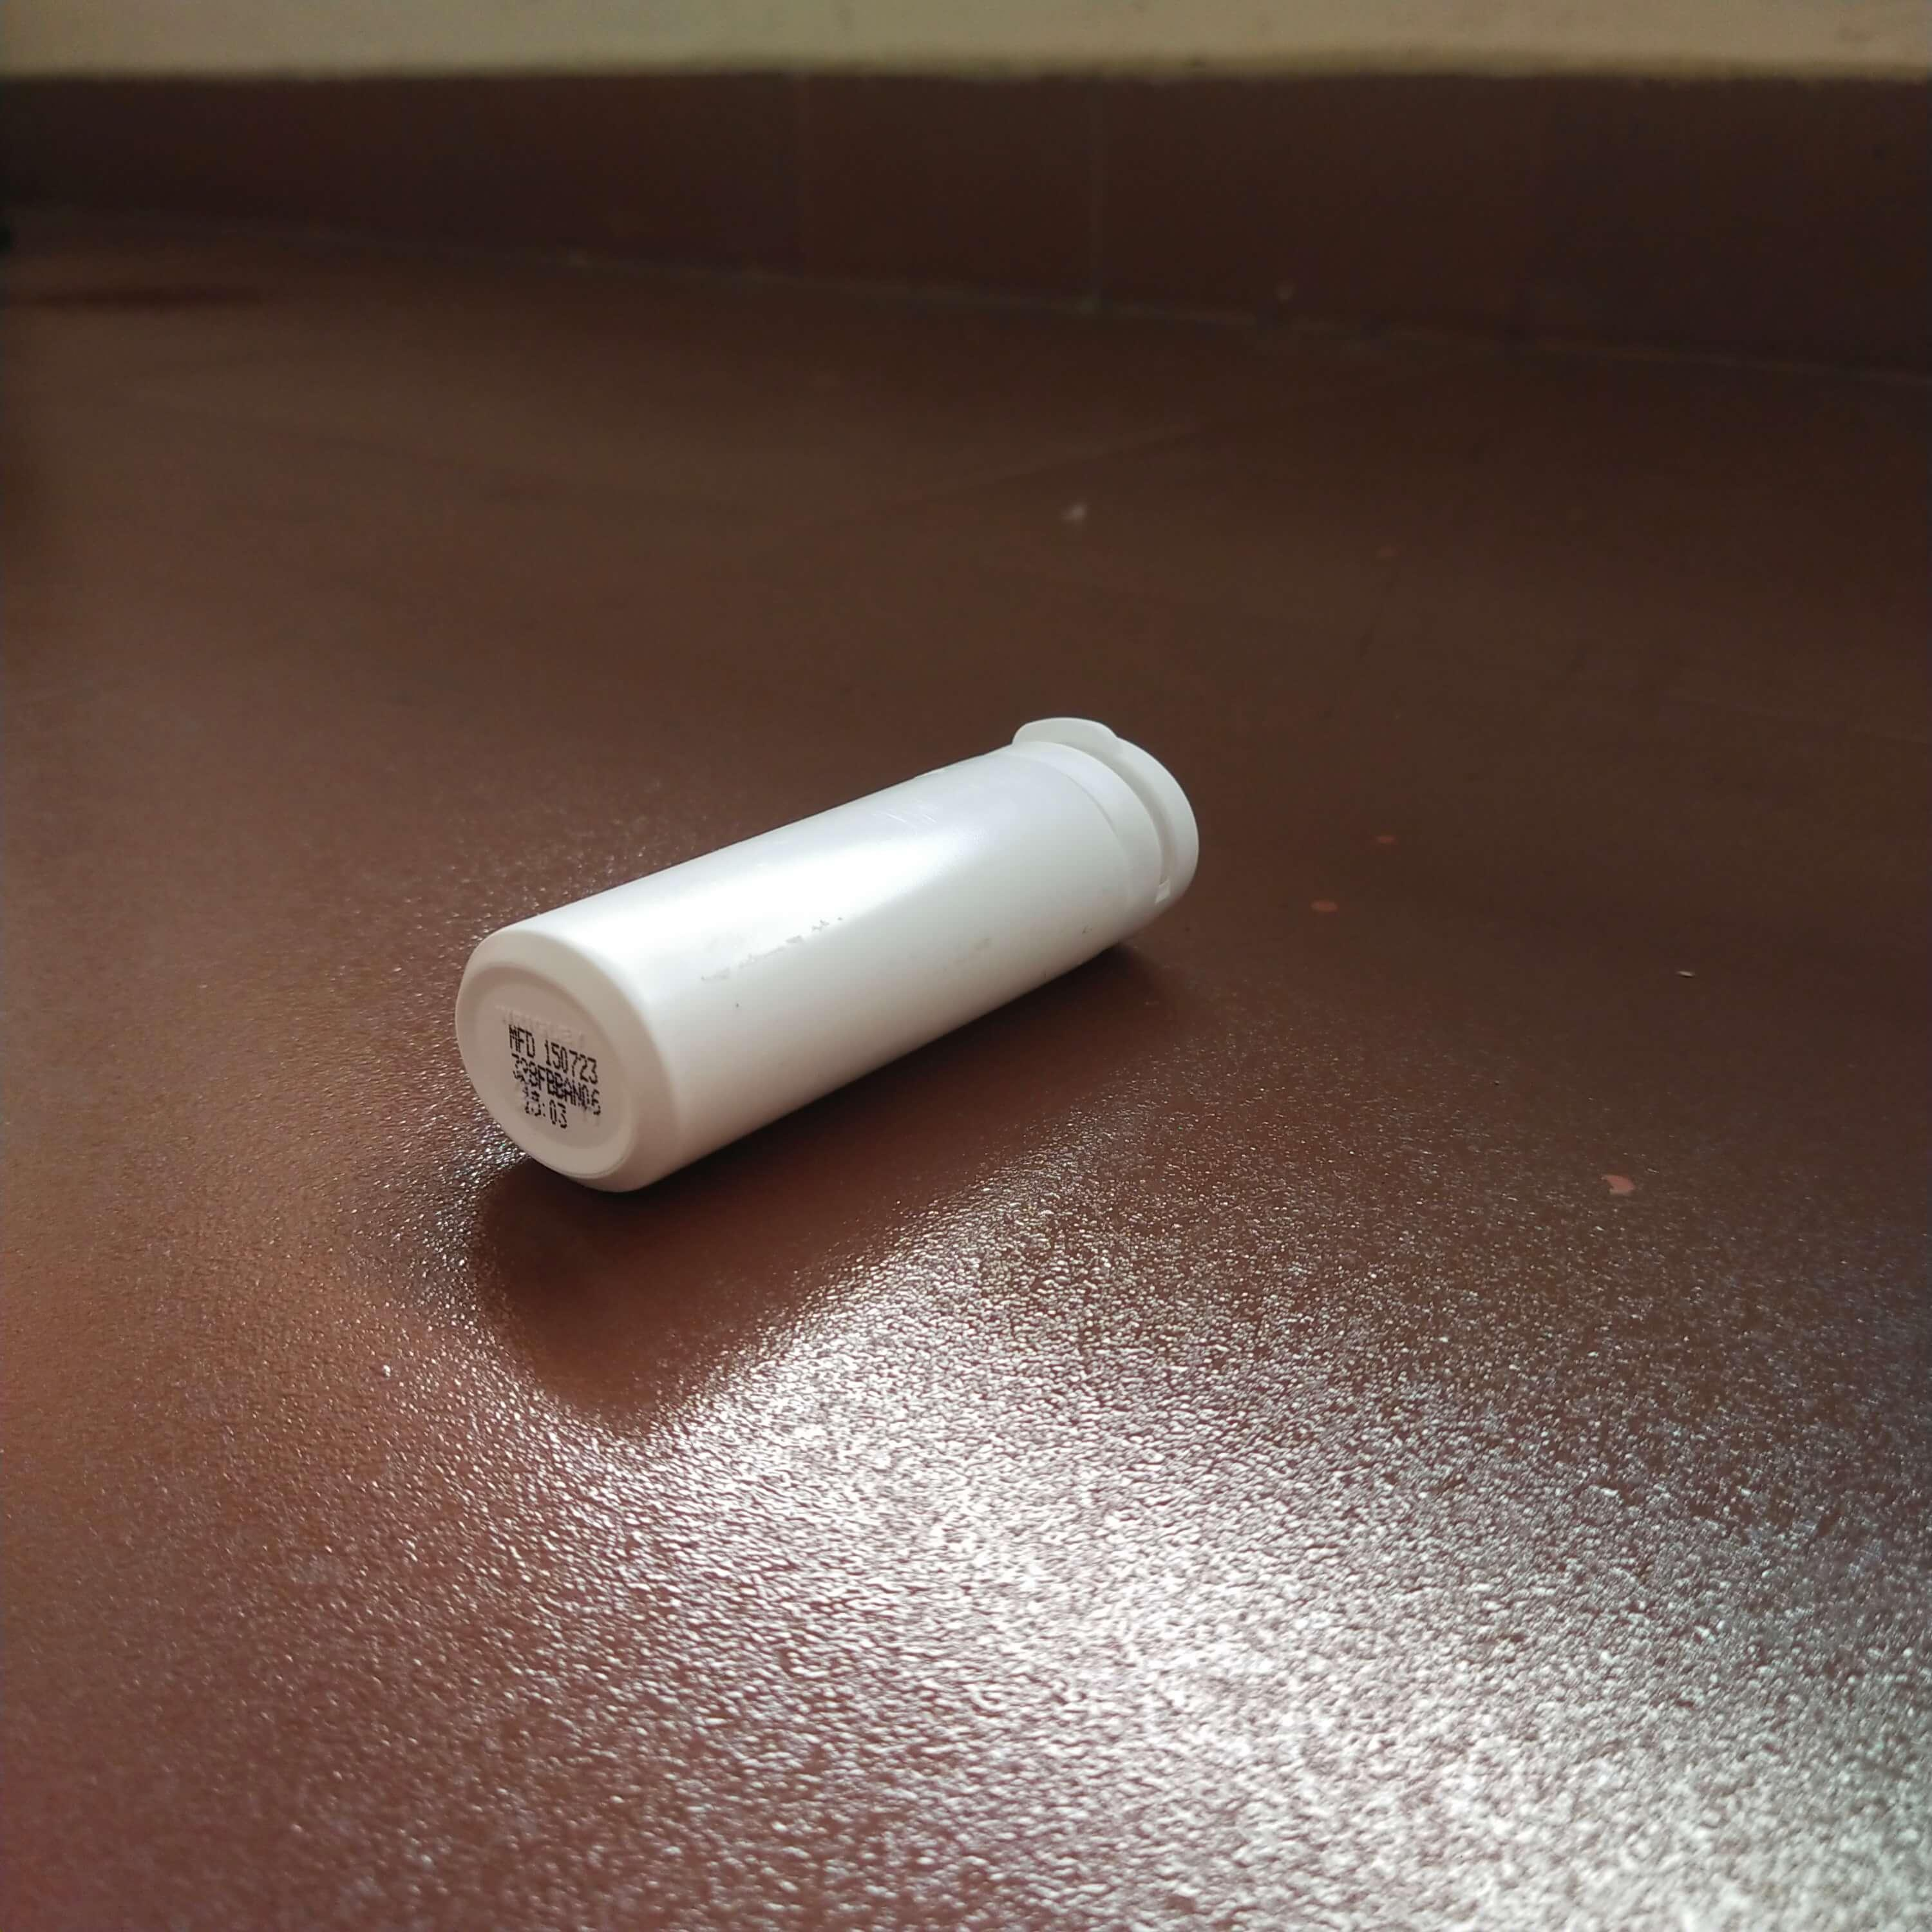plastic box: (391, 667, 1226, 1226)
